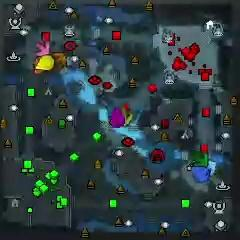p1: (190, 165, 210, 184)
p3: (109, 108, 125, 127)
p4: (34, 54, 54, 71)
x1: (35, 41, 50, 56)
x2: (122, 107, 135, 128)
x3: (205, 157, 217, 176)
x4: (190, 152, 209, 166)
x5: (52, 51, 67, 70)
